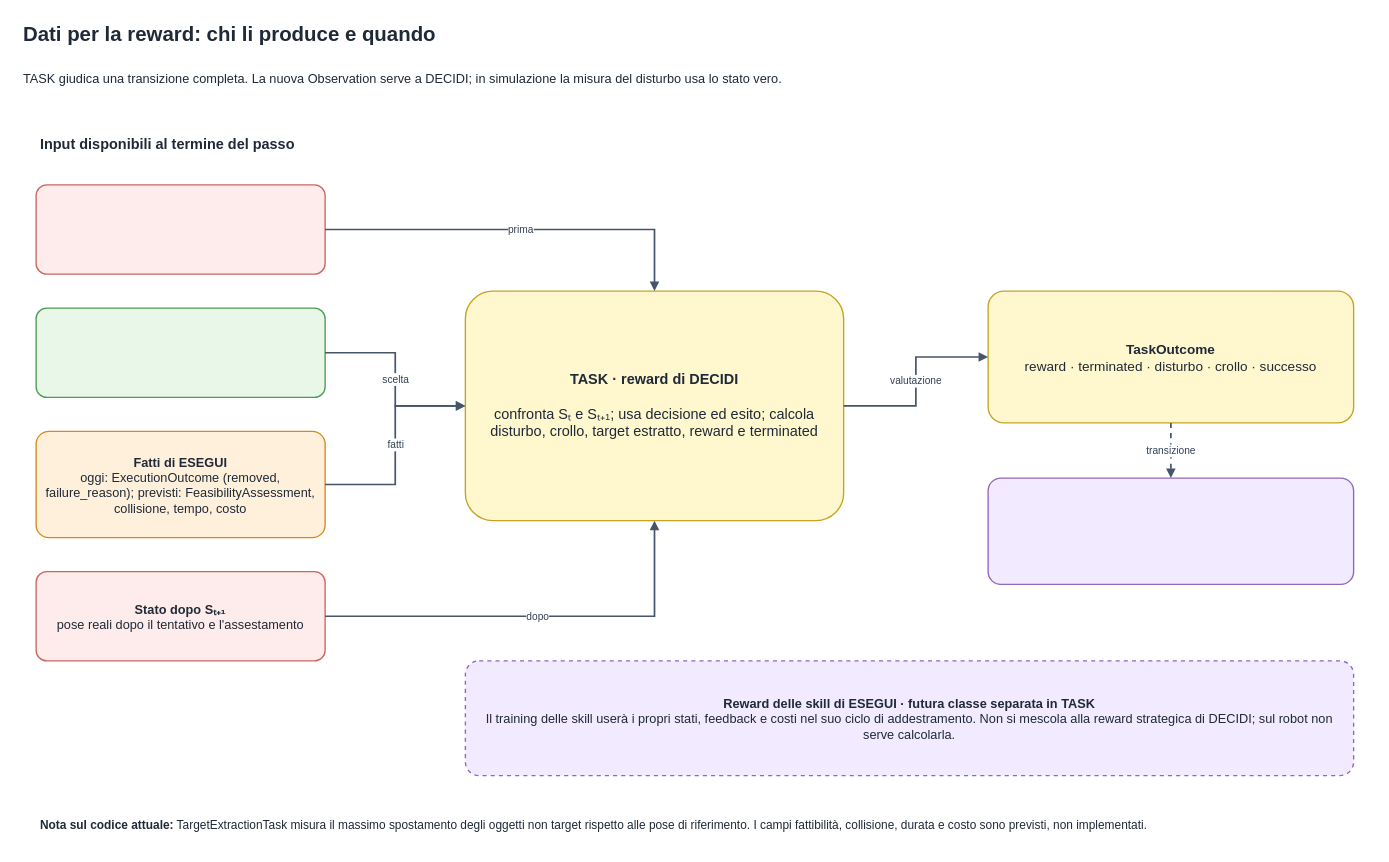
Some shapes in this 1389 by 862 pixel diagram are drawn without their labels. The box of each missing label's shape, as (x1, y1, x2, y2) in pixels:
ObjectDecision object_id richiesto da DECIDI: (35, 307, 325, 398)
Stato prima Sₜ pose di riferimento e target dopo assestamento precedente: (35, 184, 325, 274)
Trainer (solo training) registra Oₜ, azione, reward, Oₜ₊₁ e aggiorna la policy: (987, 477, 1354, 585)
